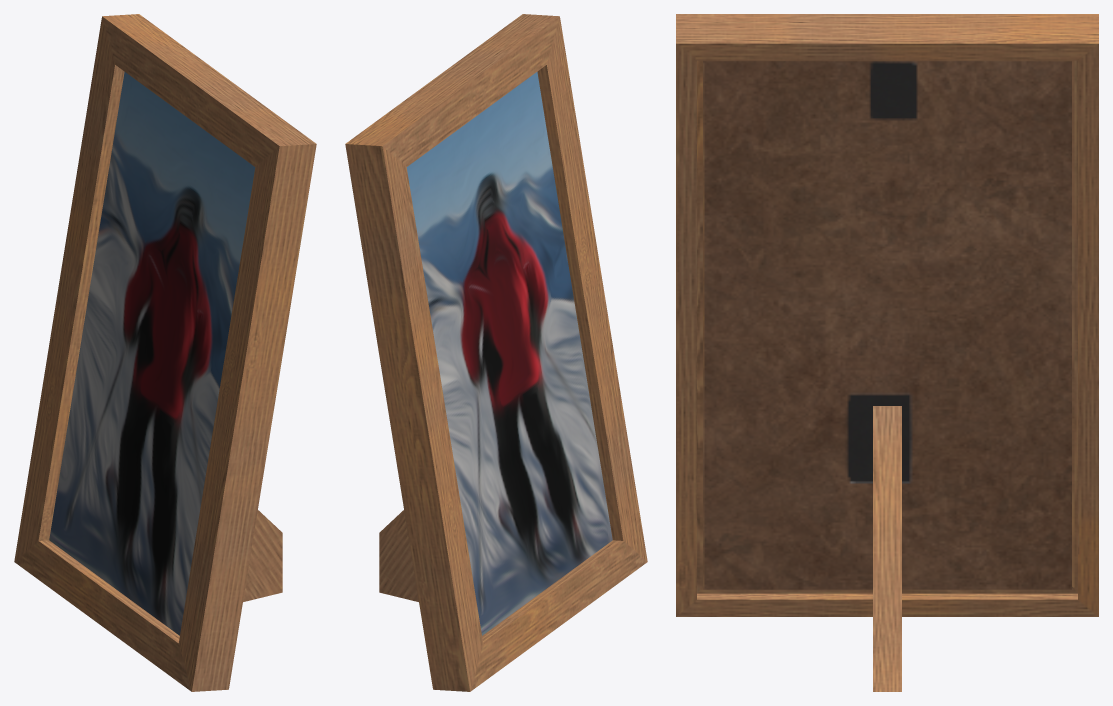
The model's file is SM_Photo_06.fbx.
3 renders of one model, left to right at view 1: azimuth 30°, elevation 25°; view 2: azimuth 150°, elevation 25°; view 3: azimuth 270°, elevation 25°, orthographic. The views are drawn at different scales.
Parts seen in each view (by area): view 1: SM_Photo_06_LOD0; view 2: SM_Photo_06_LOD0; view 3: SM_Photo_06_LOD0.
Boxes of the visible parts, <box> form: SM_Photo_06_LOD0: <box>14,14,316,691</box>; SM_Photo_06_LOD0: <box>345,14,647,691</box>; SM_Photo_06_LOD0: <box>676,14,1098,691</box>.
Size of the model in its own units: 8.03 by 14.24 by 23.5.
